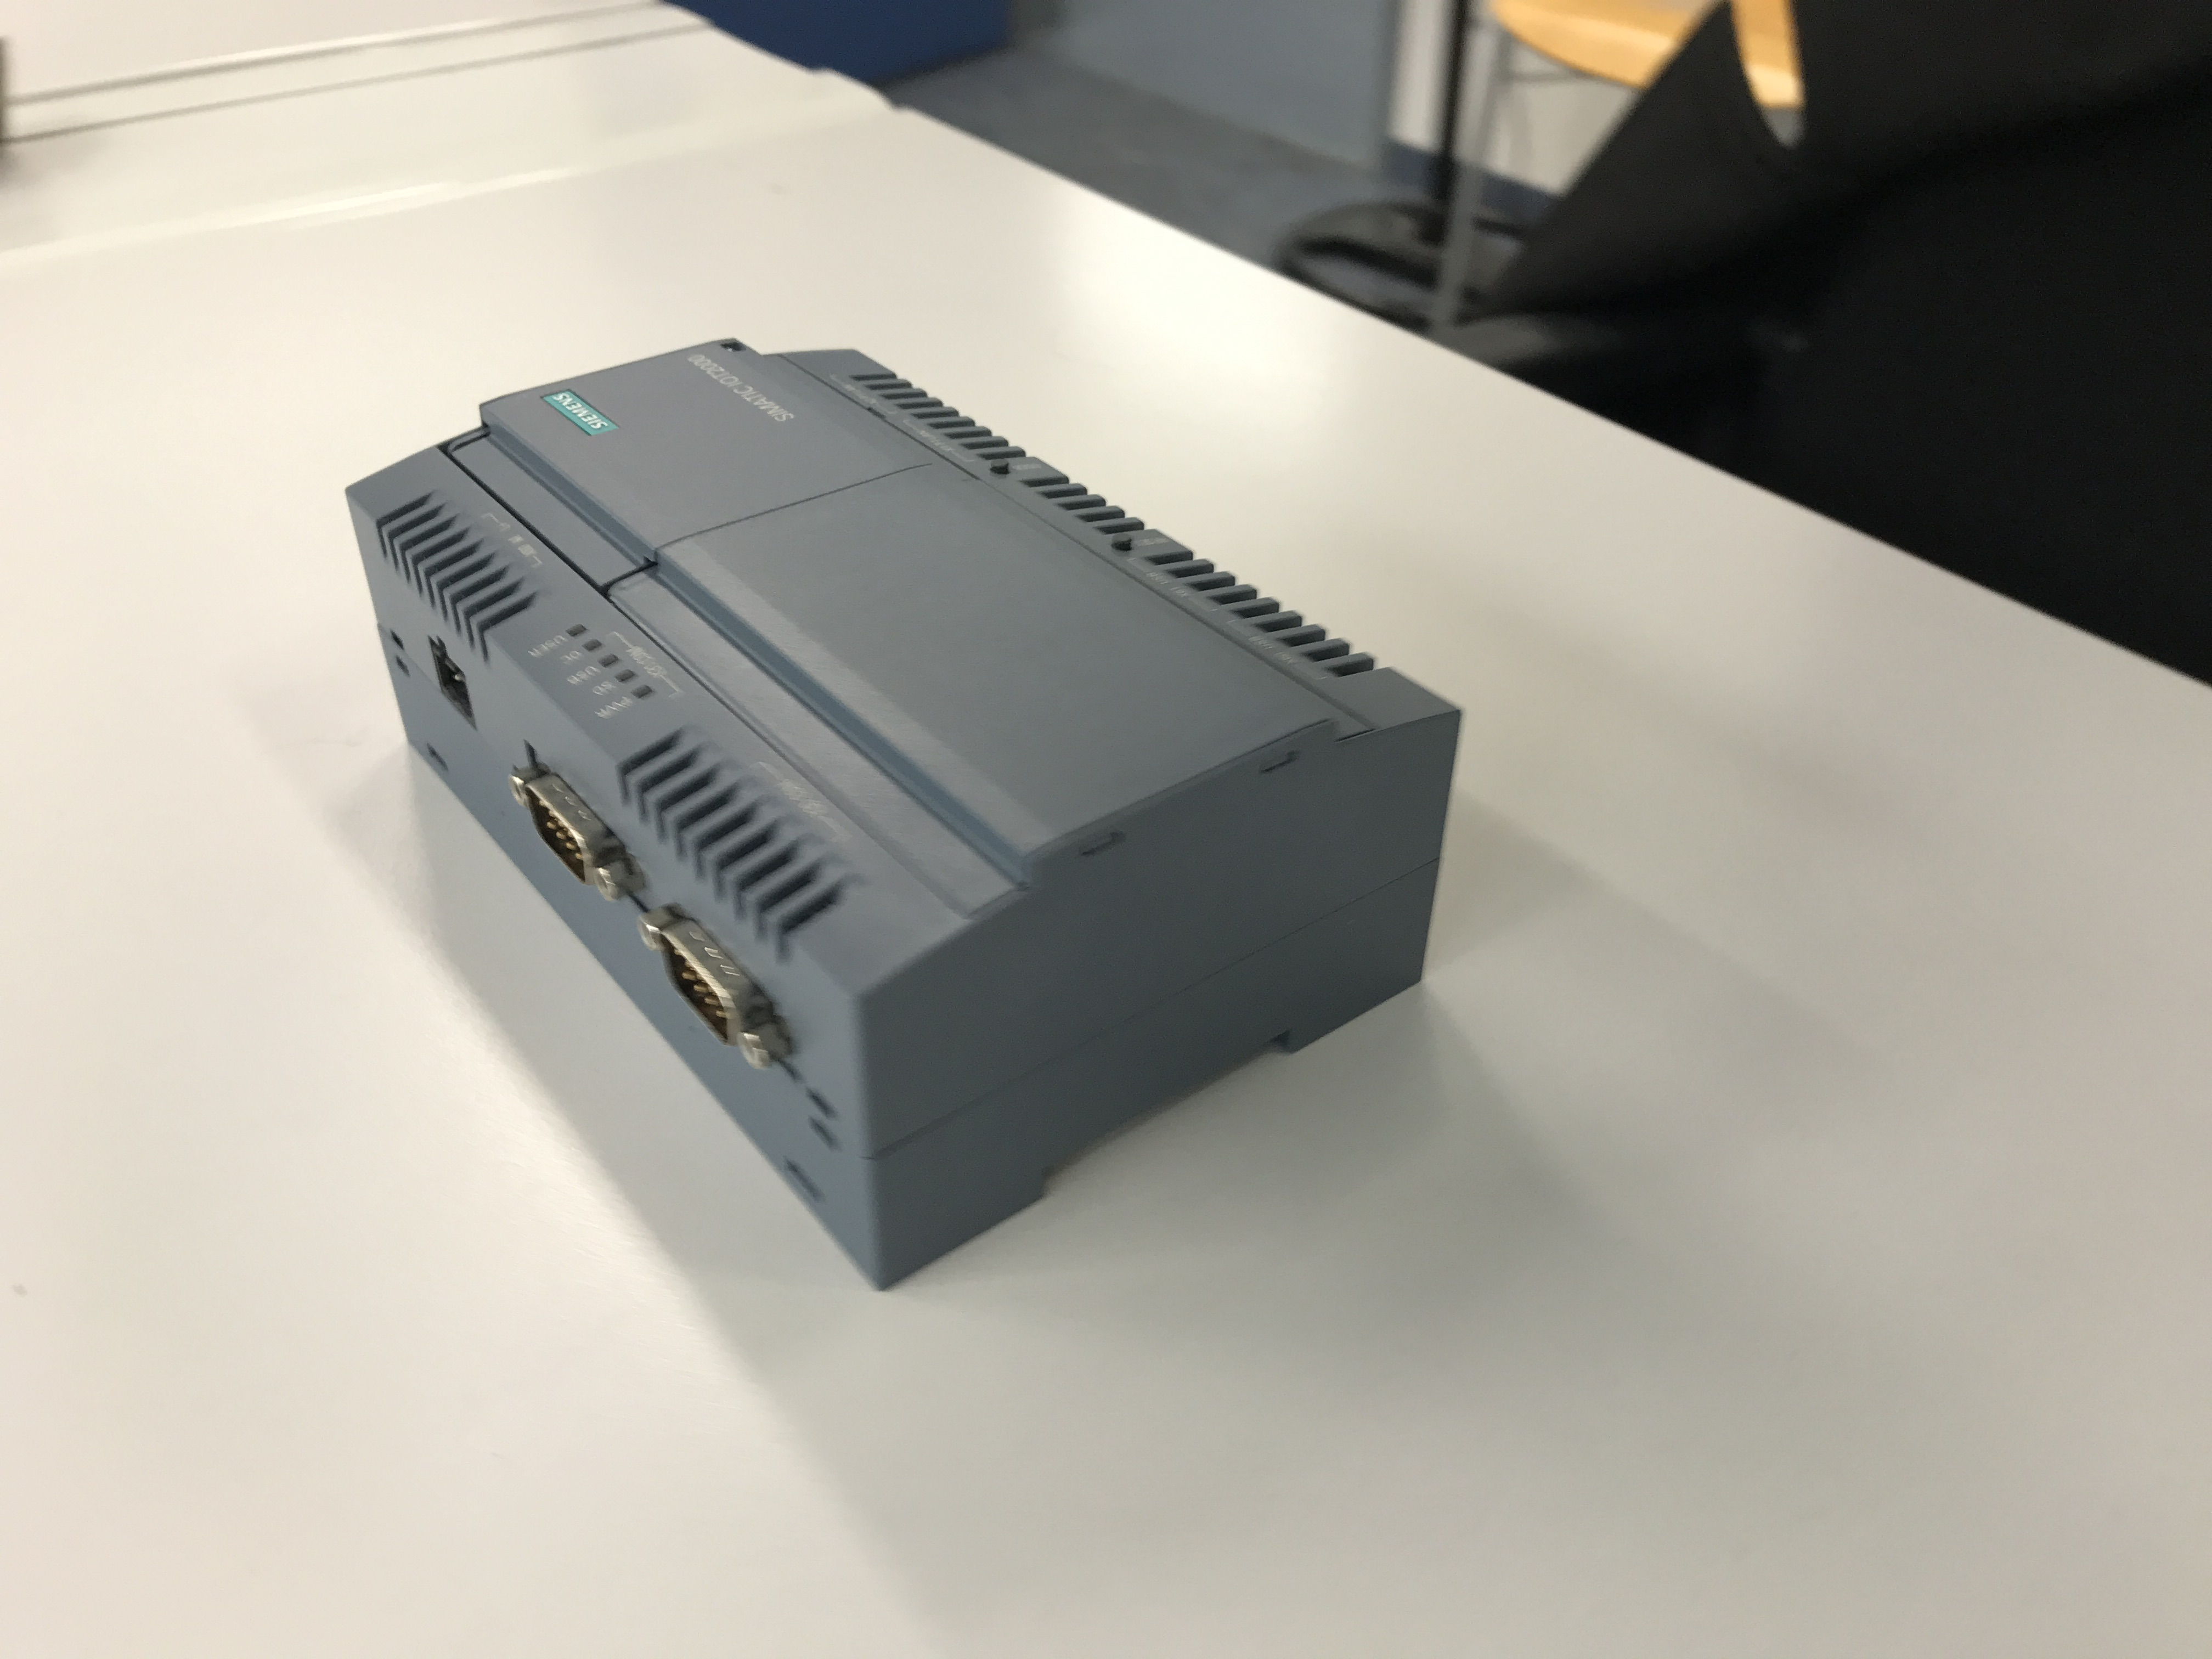device: (343, 336, 1467, 1293)
